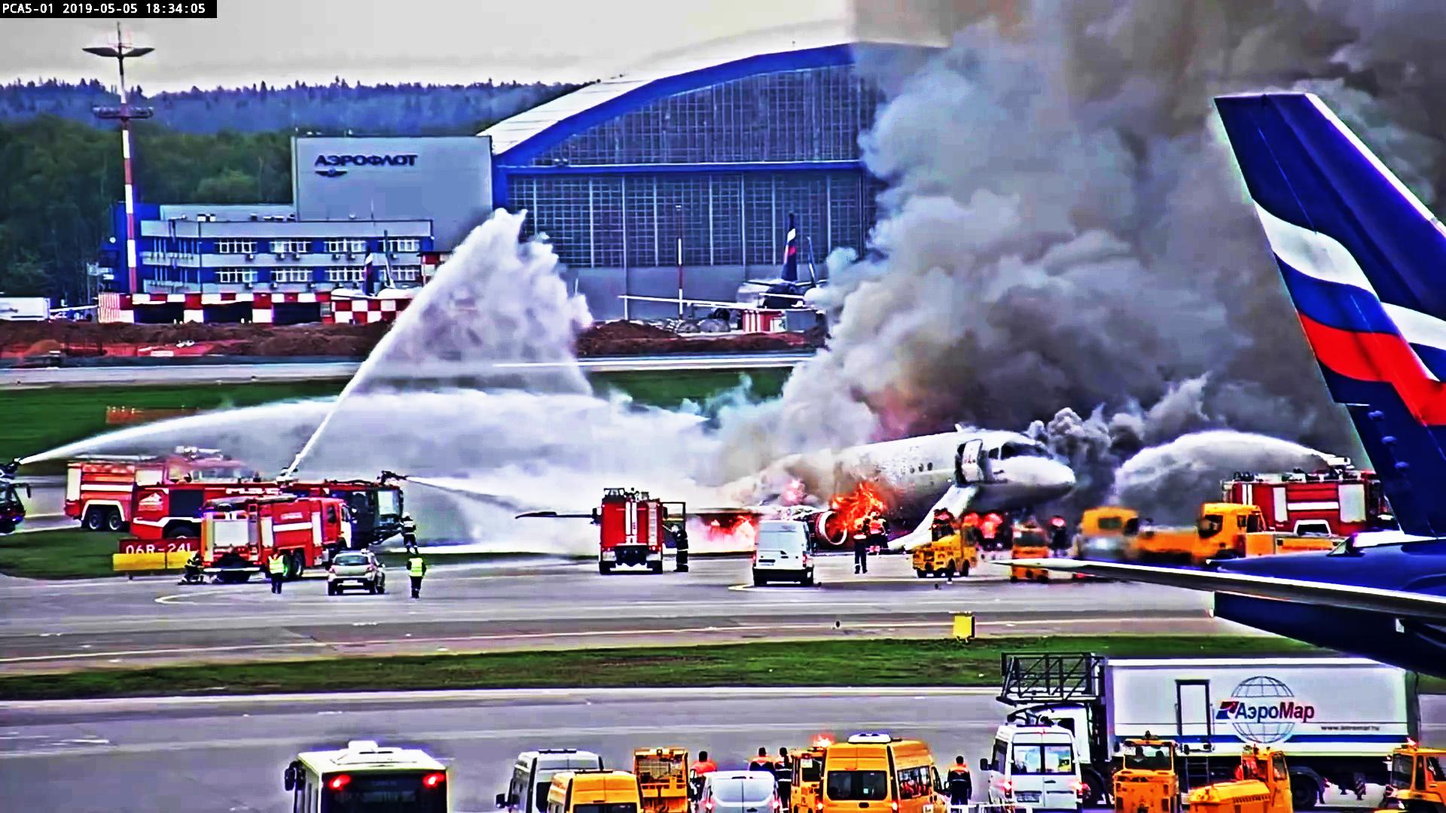smoke: (868, 8, 1195, 414)
